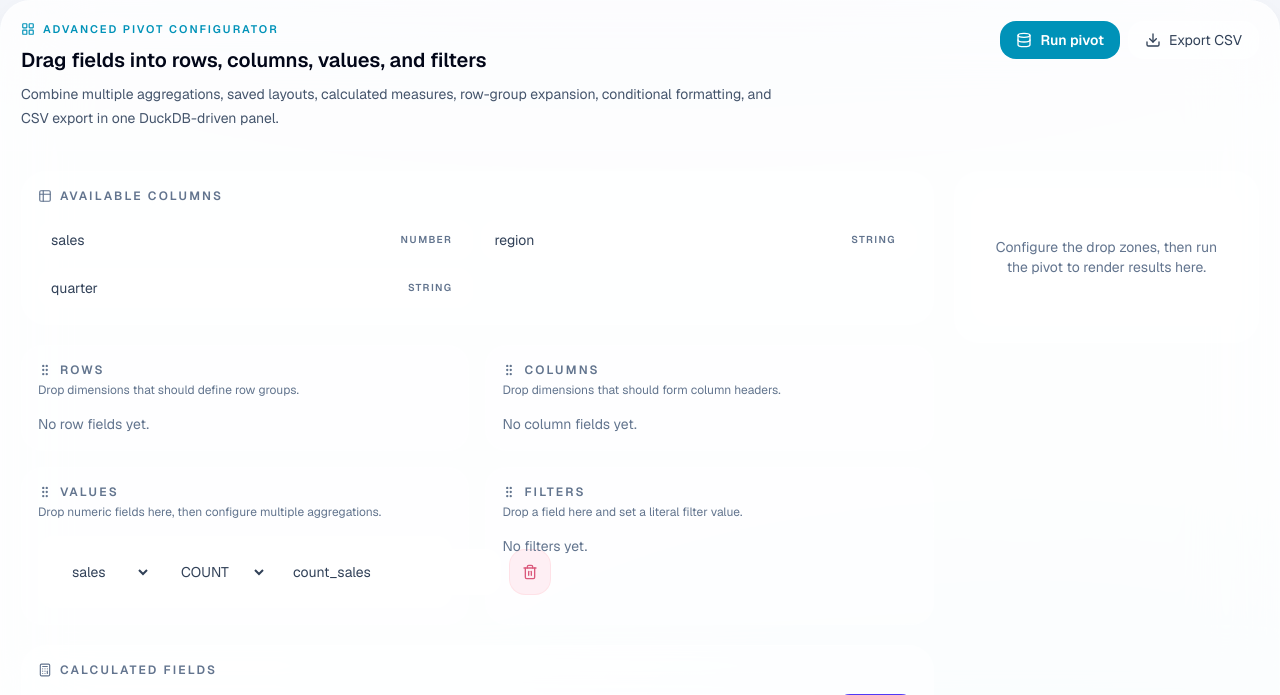
Test: PivotConfigurator › requires a row or column dimension before running the pivot
Click the button "Run pivot": (1060, 40) [1000,21,1120,59]
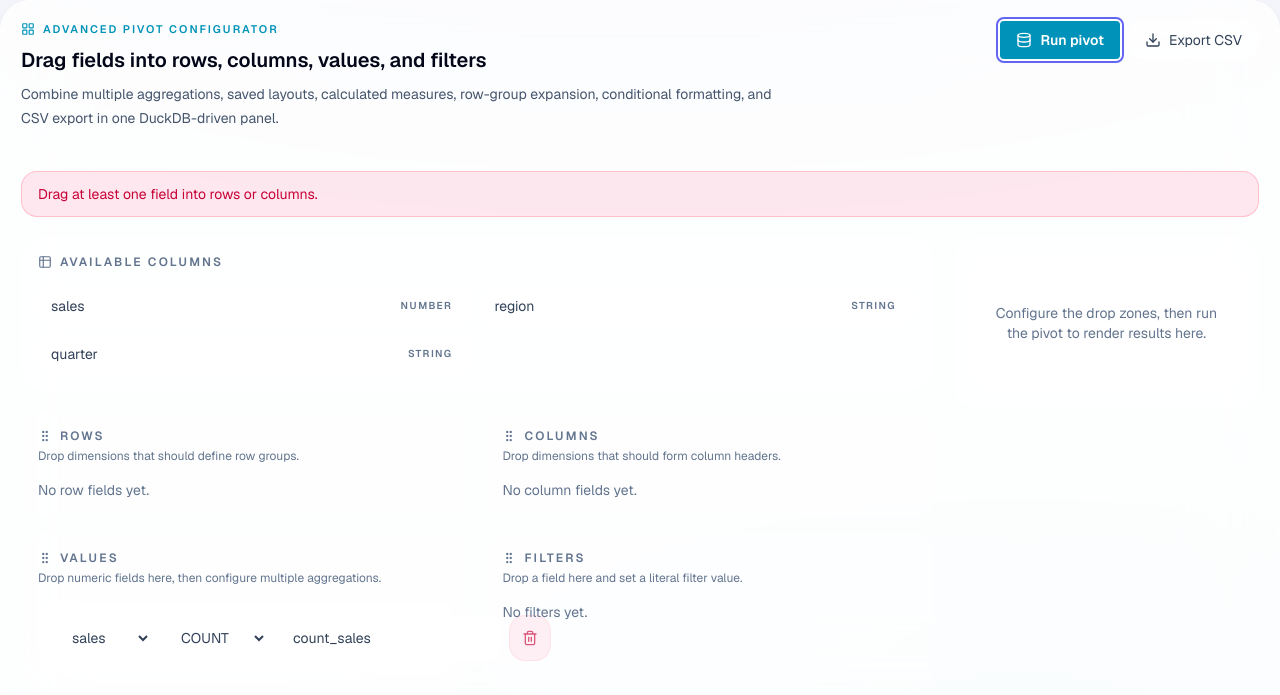
Expected: the text "Drag at least one field into rows or columns." is shown, [21,170,1259,216]
